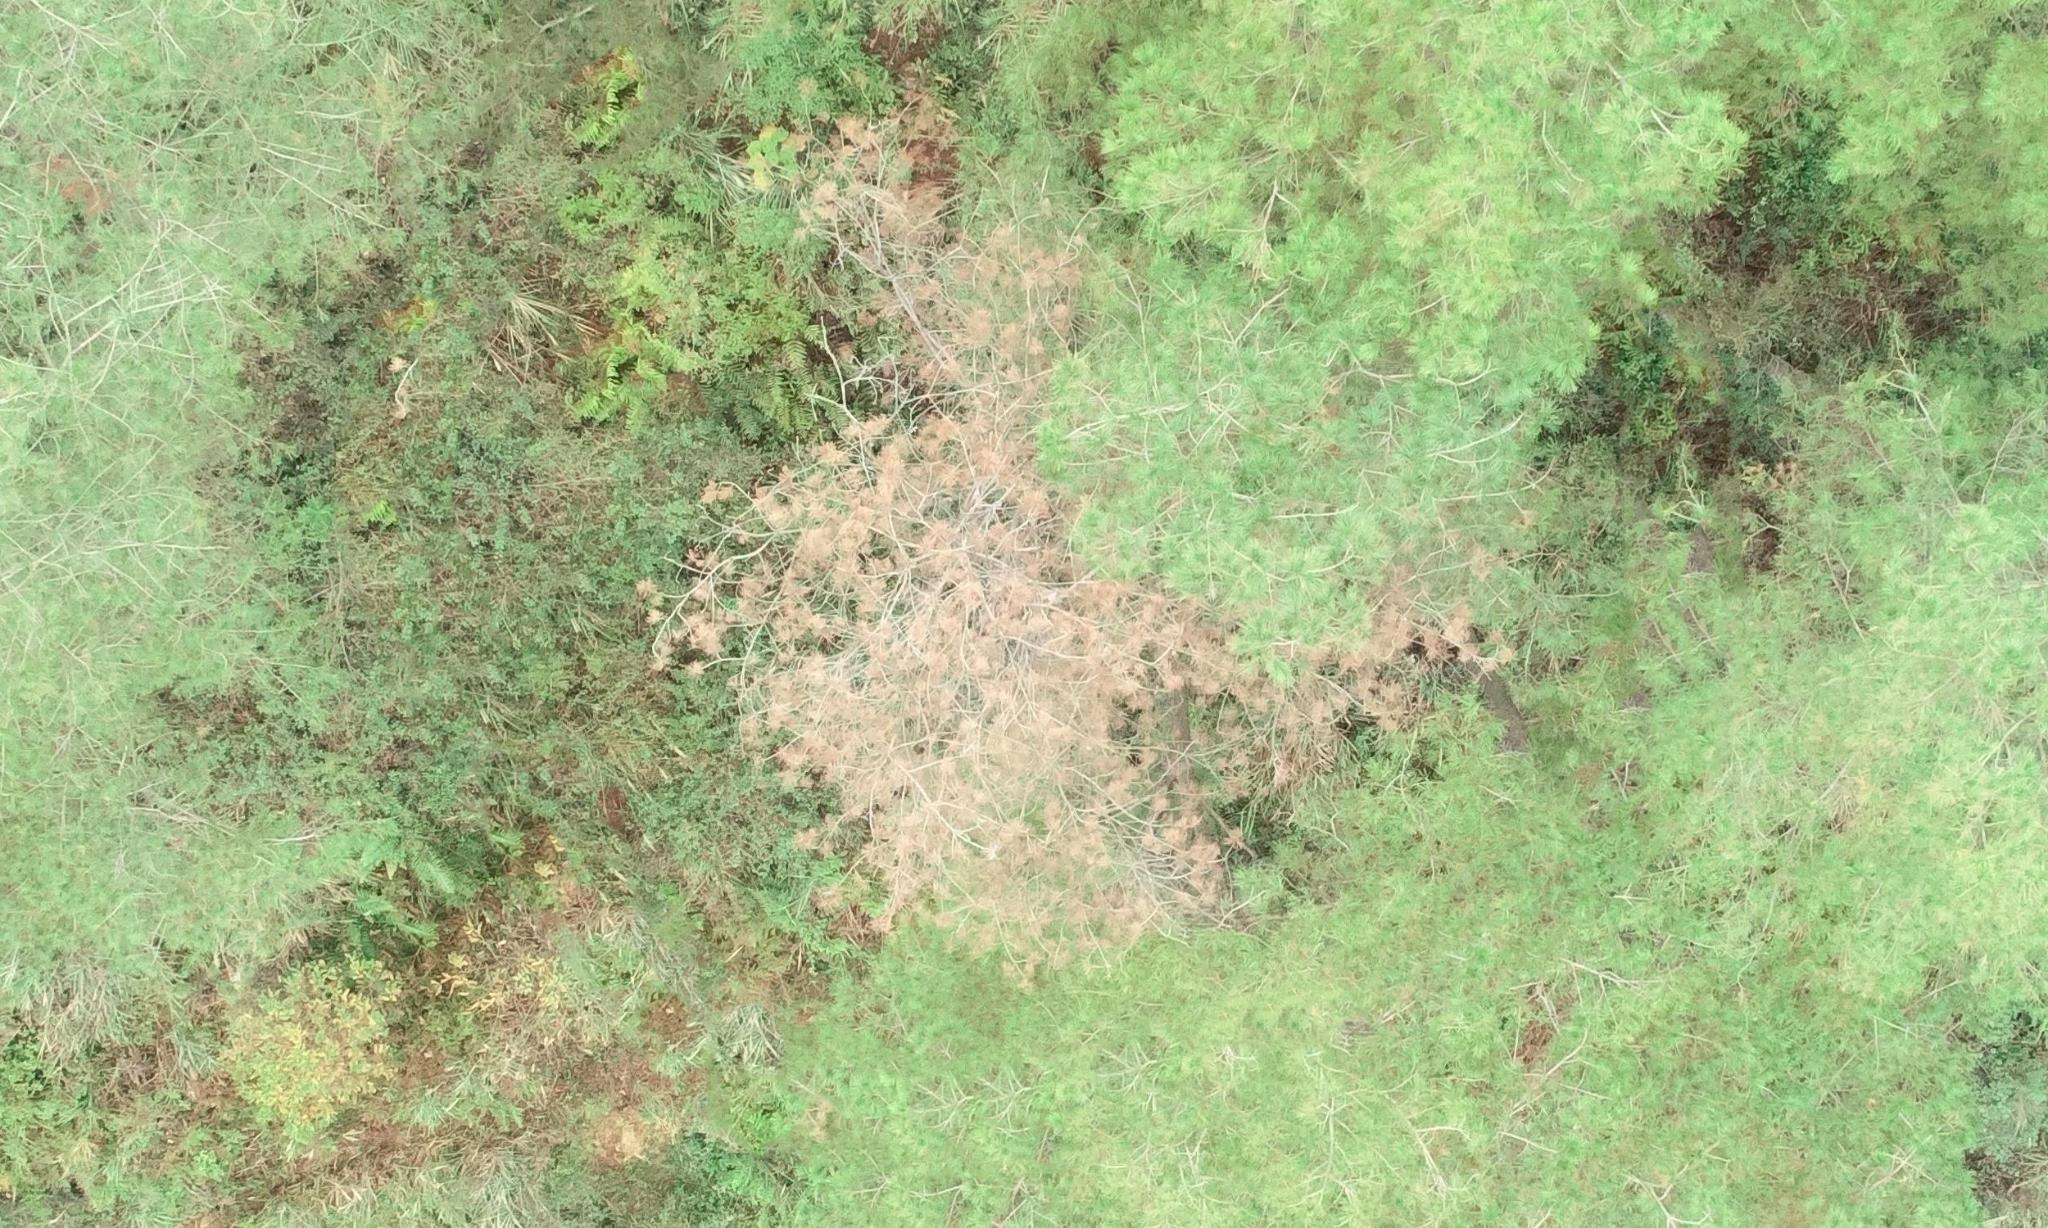heavy: (659, 129, 1482, 984)
